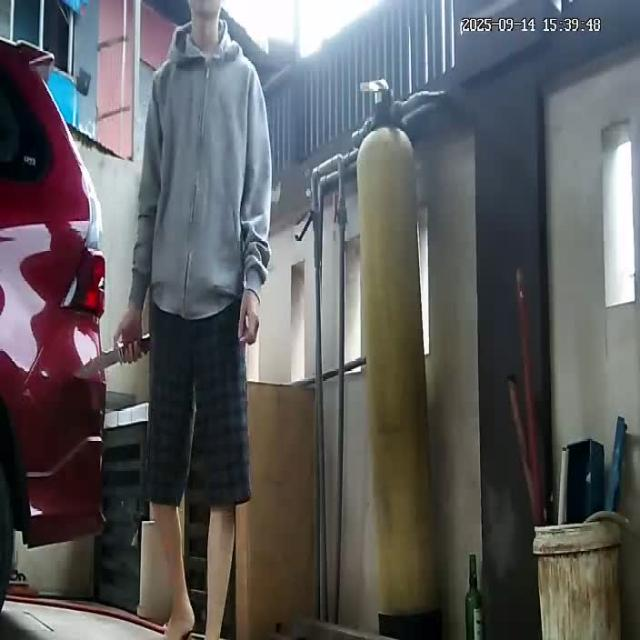senjata_tajam: (78, 344, 122, 376)
